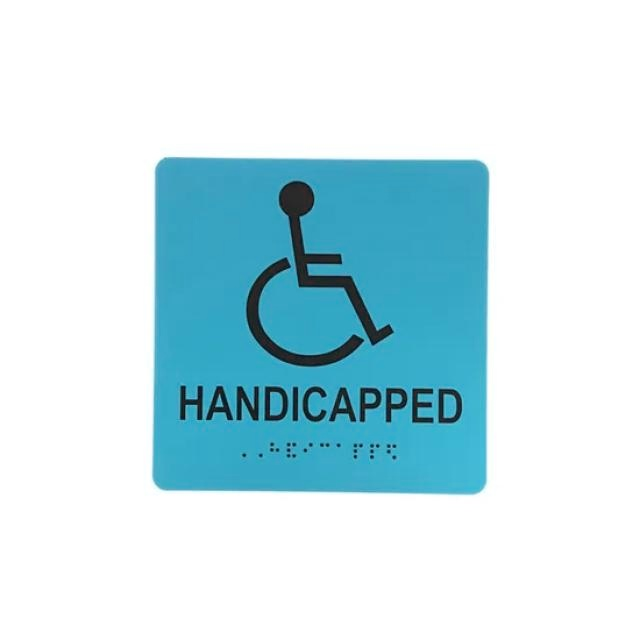ISA: (246, 172, 398, 371)
